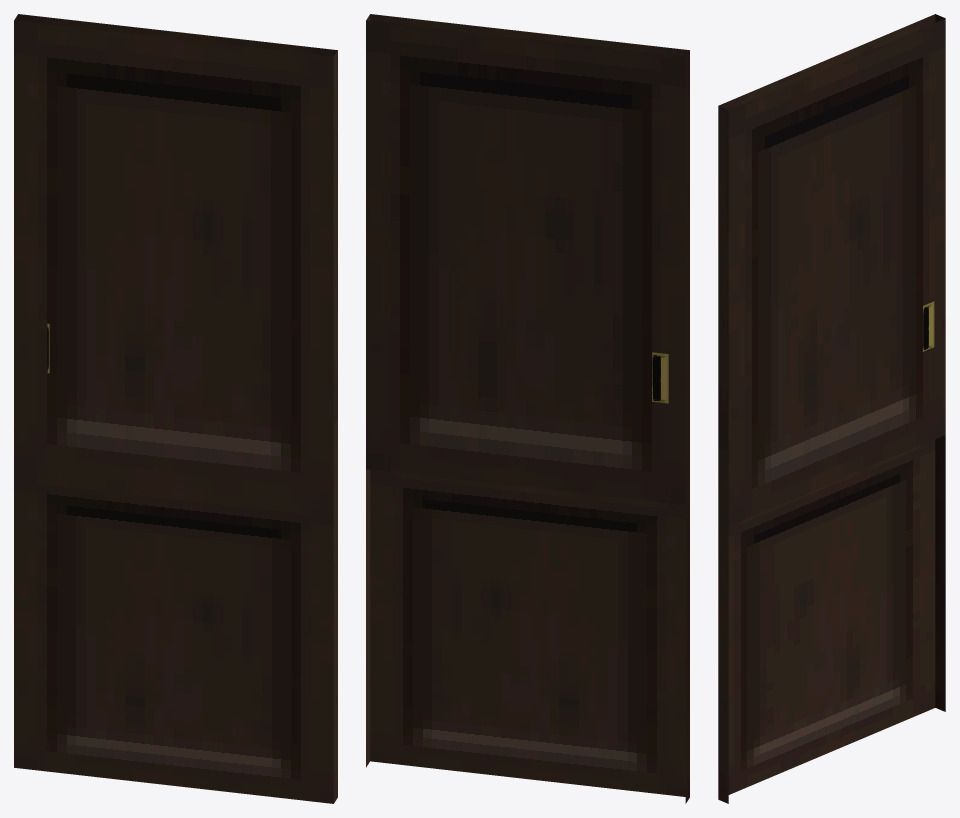
File: primary_151.glb
The picture shows the model from 3 angles, left to right: view 1: azimuth 30°, elevation 25°; view 2: azimuth 210°, elevation 25°; view 3: azimuth 270°, elevation 25°; orthographic projection. The views are drawn at different scales.
Visible parts, largest first — view 1: Object; view 2: Object; view 3: Object.
Part boxes in pixels (x1=…): Object: x1=14, y1=14, x2=337, y2=803; Object: x1=366, y1=14, x2=689, y2=803; Object: x1=718, y1=14, x2=945, y2=803.
Bounding box in the file's own units: 0.8284 × 2.79 × 0.8284.
Materials: 7 (7 with a texture image).
